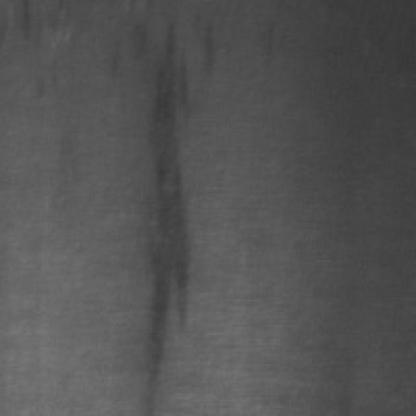inclusion: (125, 8, 206, 406)
